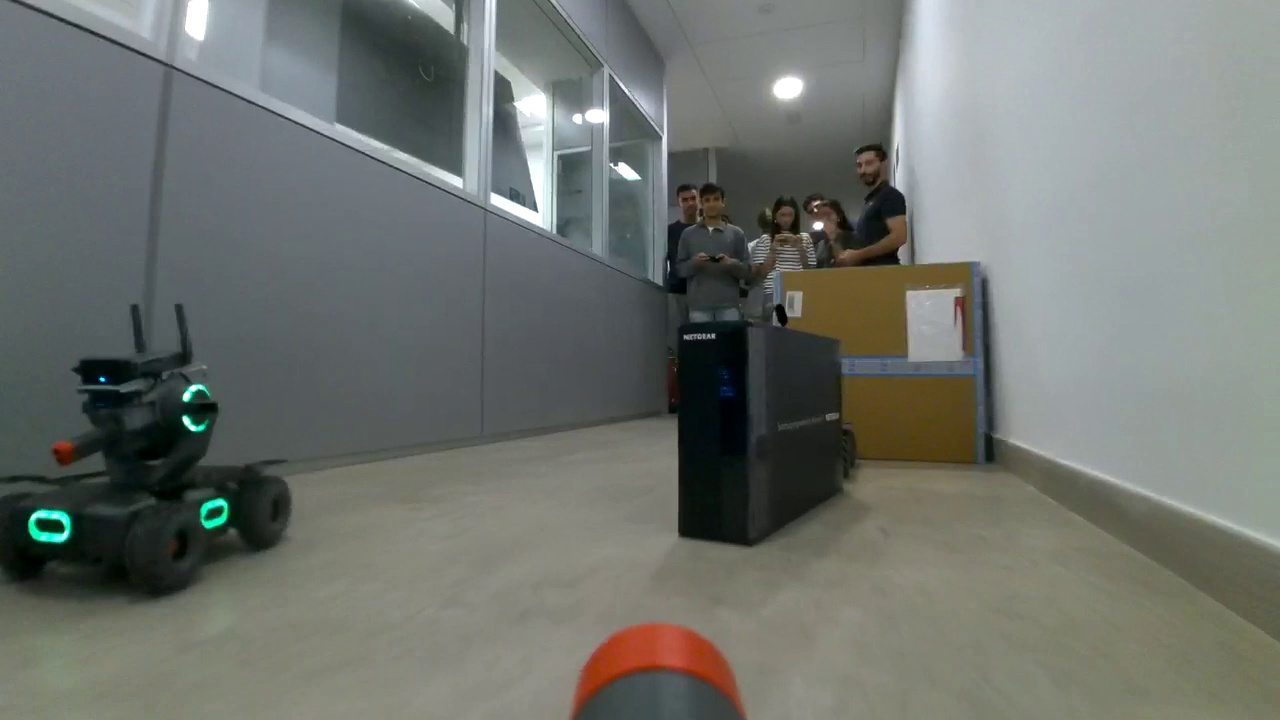robot: (3, 347, 294, 590)
